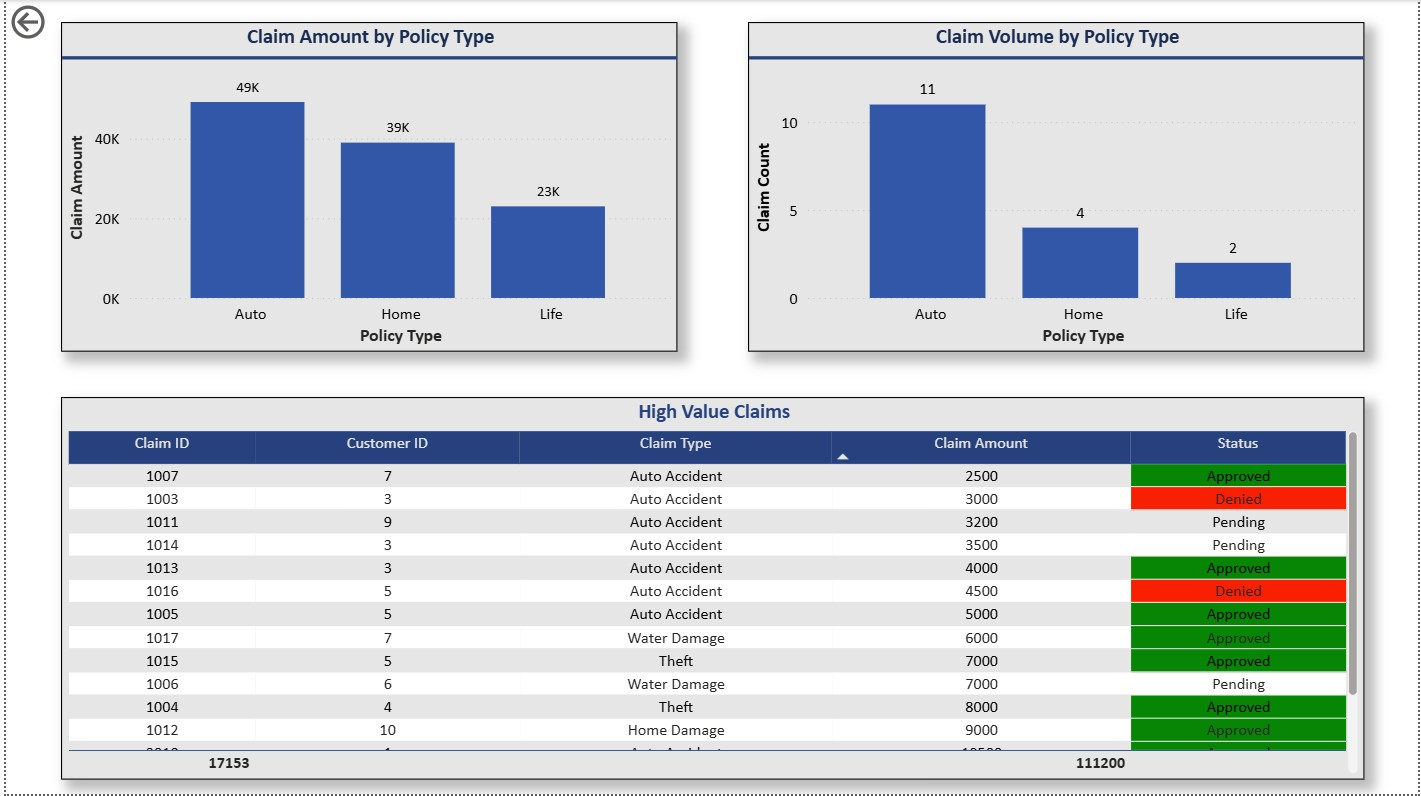

The dashboard page shown, as its layout file describes it:
{"tool":"powerbi","page":{"name":"POLICY ANALYSIS","canvas":[1280,720],"ordinal":1},"visuals":[{"type":"clusteredColumnChart","title":"Claim Amount by Policy Type","fields":{"Category":["customers.policy_type"],"Y":["Sum(claims.claim_amount)"]},"box":[49.9,19.9,559.5,299.2],"z":0},{"type":"clusteredColumnChart","title":"Claim Volume by Policy Type","fields":{"Category":["customers.policy_type"],"Y":["CountNonNull(claims.claim_id)"]},"box":[672.8,19.9,559.5,299.2],"z":1000},{"type":"tableEx","title":"High Value Claims","fields":{"Values":["Sum(claims.claim_id)","claims.customer_id","claims.claim_type","Sum(claims.claim_amount)","claims.status"]},"box":[49.9,360,1182.5,347.3],"z":2000},{"type":"actionButton","box":[0,0,100,40],"z":3000}]}

Visuals, with their boxes in screenshot pixels (x1, y1, x2, y2), scaled from the page's 1280x720 canvas onto the 1421x796 screenshot:
"Claim Amount by Policy Type" clusteredColumnChart: <box>55,22,677,353</box>
"Claim Volume by Policy Type" clusteredColumnChart: <box>747,22,1368,353</box>
"High Value Claims" tableEx: <box>55,398,1368,782</box>
actionButton: <box>0,0,111,44</box>
